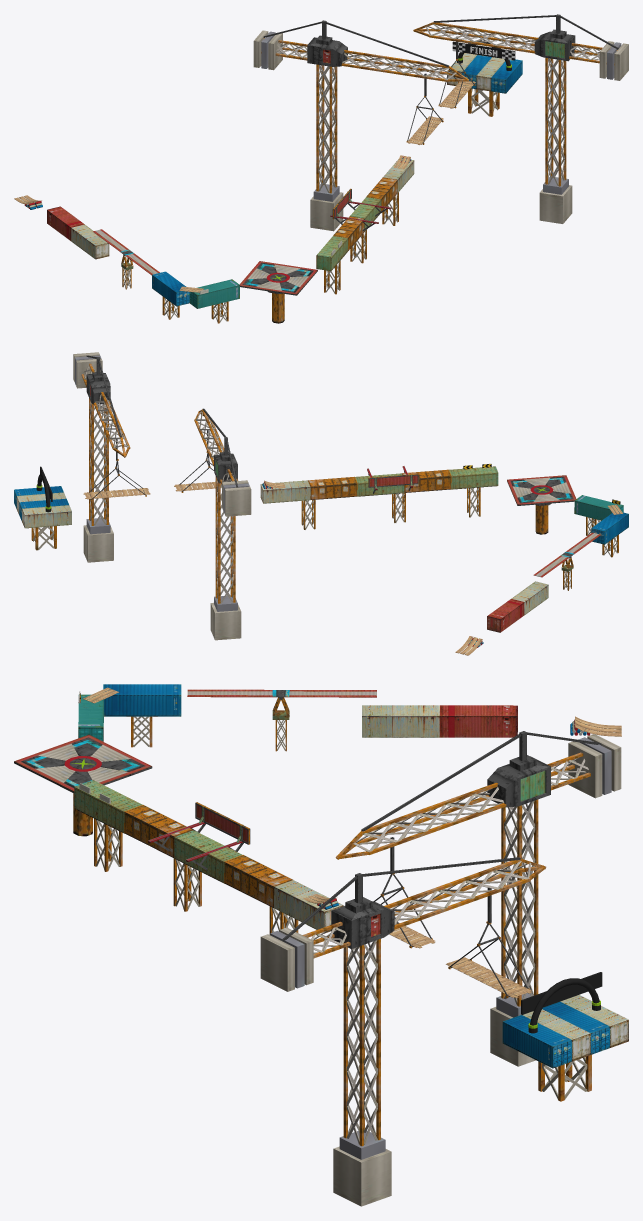
Rendered from 4_Parkour.fbx.
The picture shows the model from 3 angles, top to bottom: view 1: azimuth 30°, elevation 25°; view 2: azimuth 150°, elevation 25°; view 3: azimuth 270°, elevation 25°; orthographic projection. The views are drawn at different scales.
Visible parts, largest first — view 1: CraneOrange, CraneOrange__1_, BalancePlatformMoving, stcontainergreen, stcontainerwhite__1_, stcontainerblue, finishObject, stcontainergreentwo, stcontainerblue__2_, stcontainerred__4_, JointPlatform, orangescaffold__7_ (+7 smaller); view 2: CraneOrange__1_, CraneOrange, BalancePlatformMoving, stcontainerwhite__4_, stcontainerorange__1_, stcontainergreentwo, stcontainerwhite__2_, stcontainerred__4_, stcontainerorange, stcontainergreen, stcontainerblue, stcontainerwhite__1_ (+5 smaller); view 3: CraneOrange, CraneOrange__1_, BalancePlatformMoving, stcontainerred__4_, stcontainerwhite__1_, stcontainerblue, stcontainerblue__2_, stcontainerorange__1_, stcontainergreentwo, stcontainerorange, stcontainergreentwo__1_, finishObject (+11 smaller).
Boxes of the visible parts, <box> form: CraneOrange: <box>413,14,628,223</box>; CraneOrange__1_: <box>253,20,468,231</box>; BalancePlatformMoving: <box>239,261,317,295</box>; stcontainergreen: <box>189,279,239,308</box>; stcontainerwhite__1_: <box>71,224,109,259</box>; stcontainerblue: <box>152,271,189,306</box>; finishObject: <box>452,40,515,70</box>; stcontainergreentwo: <box>316,236,347,270</box>; stcontainerblue__2_: <box>491,59,522,93</box>; stcontainerred__4_: <box>47,206,84,240</box>; JointPlatform: <box>93,229,159,275</box>; orangescaffold__7_: <box>468,88,499,116</box>; CraneOrange__1_: <box>194,408,251,640</box>; CraneOrange: <box>73,352,130,562</box>; BalancePlatformMoving: <box>507,475,576,505</box>; stcontainerwhite__4_: <box>22,505,71,528</box>; stcontainerorange__1_: <box>308,476,357,499</box>; stcontainergreentwo: <box>449,466,498,489</box>; stcontainerwhite__2_: <box>260,480,310,503</box>; stcontainerred__4_: <box>487,598,524,632</box>; stcontainerorange: <box>401,469,451,492</box>; stcontainergreen: <box>574,495,623,520</box>; stcontainerblue: <box>591,511,628,544</box>; stcontainerwhite__1_: <box>511,581,548,615</box>; CraneOrange: <box>260,857,546,1206</box>; CraneOrange__1_: <box>335,731,621,1066</box>; BalancePlatformMoving: <box>14,734,152,793</box>; stcontainerred__4_: <box>439,705,517,737</box>; stcontainerwhite__1_: <box>362,705,439,737</box>; stcontainerblue: <box>103,684,181,716</box>; stcontainerblue__2_: <box>502,1015,571,1068</box>; stcontainerorange__1_: <box>224,855,292,907</box>; stcontainergreentwo: <box>74,780,142,833</box>; stcontainerorange: <box>124,805,192,857</box>; stcontainergreentwo__1_: <box>174,830,242,883</box>; finishObject: <box>521,972,602,1033</box>.
Size of the model in its own units: 19952 by 7574 by 13122.
